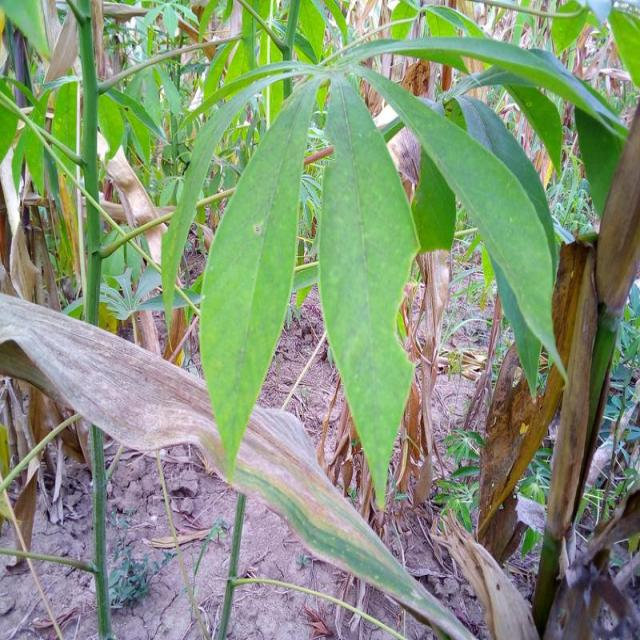cassava leaf: (347, 61, 570, 402), (197, 70, 324, 483), (317, 70, 421, 510)
